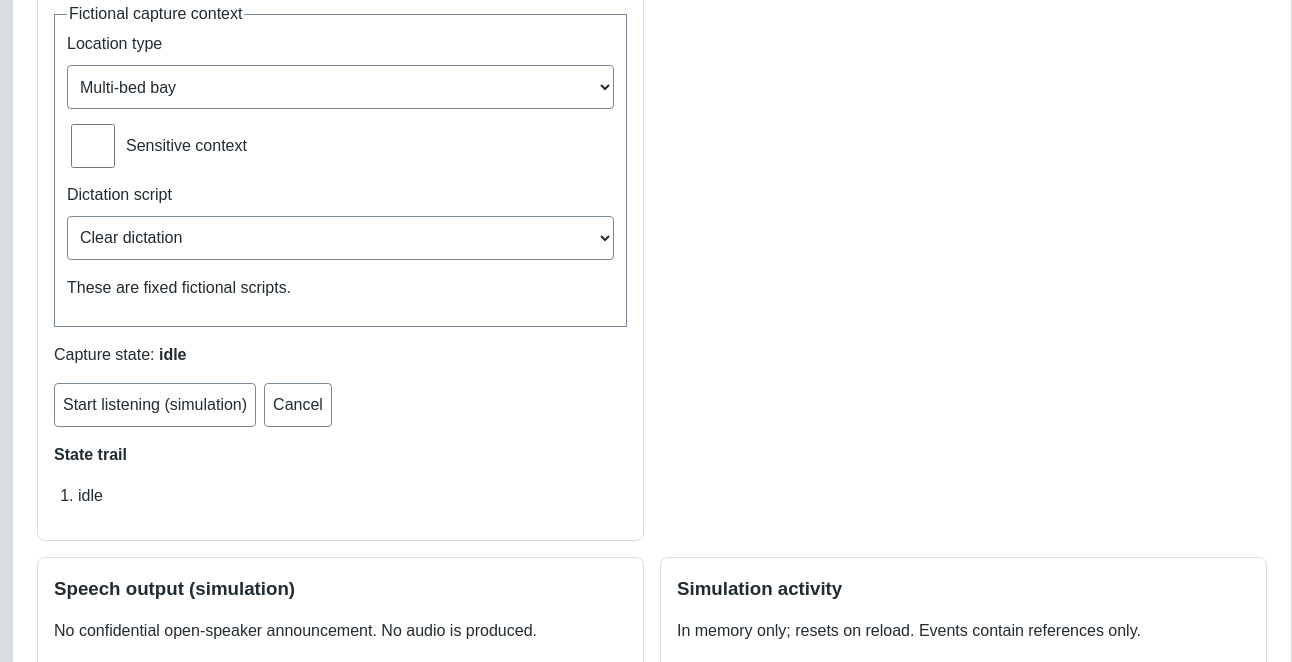
Test: returns focus after cancellation from listening
The image size is (1292, 662).
(page scrolled)
Step 1. Click the button "Start listening (simulation)" → (155, 405), box [54,383,256,427]
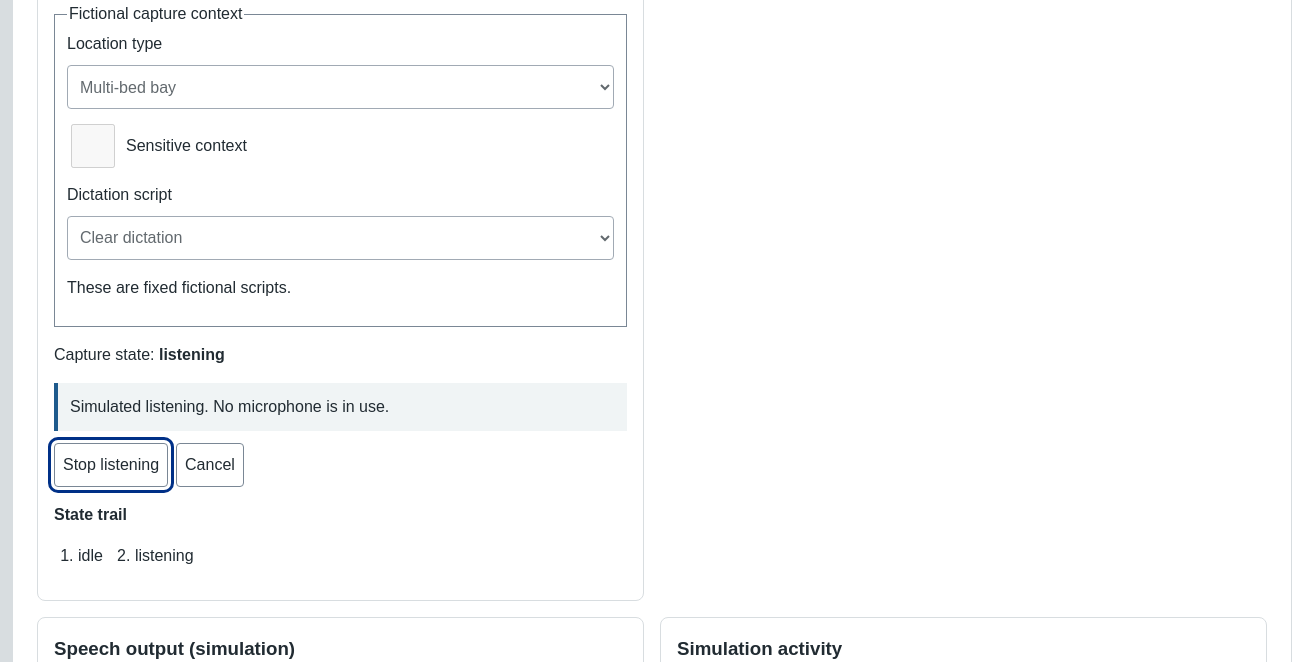
Step 2. Click the button "Cancel" → (210, 465), box [176,443,244,487]
(page scrolled)
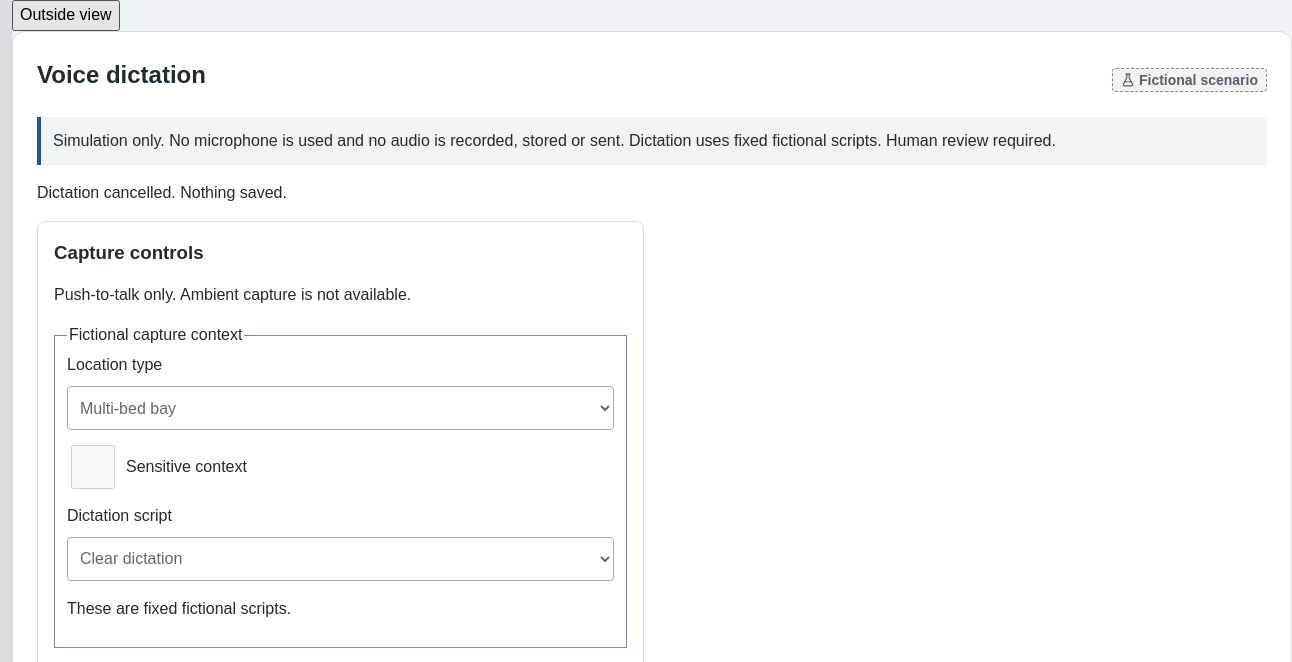
Now the message reads "Dictation cancelled. Nothing saved.", box [37,184,287,201]
